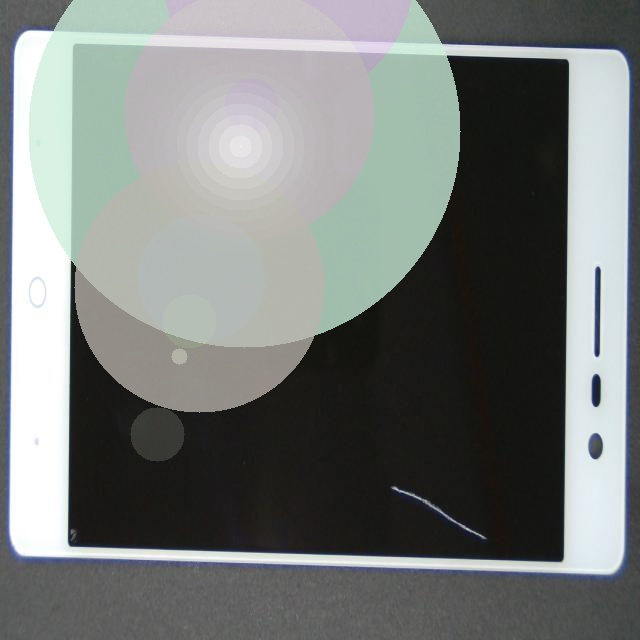scratch: (311, 306, 640, 640)
